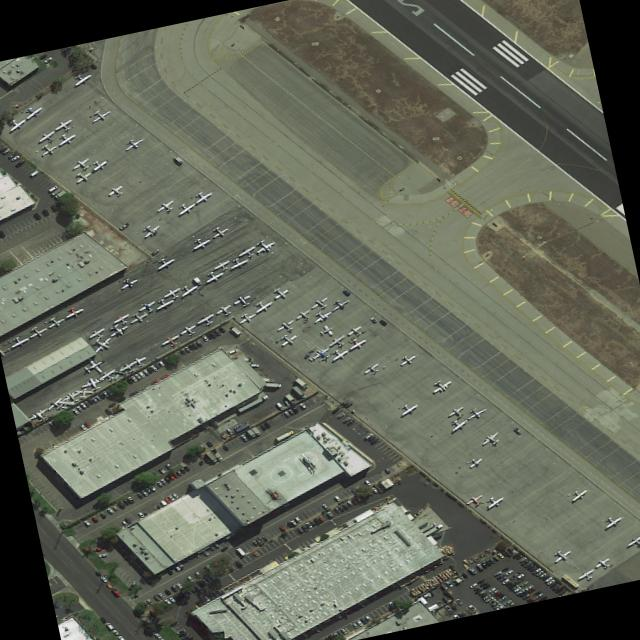large-vehicle: (236, 393, 270, 413), (420, 523, 443, 538), (416, 521, 437, 534), (273, 430, 295, 442), (292, 384, 307, 398), (209, 447, 223, 461), (294, 377, 309, 389), (228, 325, 244, 336), (205, 450, 218, 463), (283, 393, 297, 405), (53, 189, 67, 199), (234, 546, 247, 556), (172, 154, 184, 163), (261, 382, 282, 387), (253, 377, 274, 382), (50, 187, 63, 195), (251, 425, 261, 435), (227, 347, 240, 354), (246, 428, 256, 437), (275, 401, 285, 410), (29, 169, 40, 177), (192, 276, 203, 284), (48, 184, 58, 192), (364, 432, 374, 440), (106, 622, 115, 630), (246, 363, 260, 367)
plane: (79, 354, 109, 377), (87, 331, 116, 354), (79, 373, 107, 393), (104, 320, 131, 339), (252, 236, 278, 255), (27, 406, 53, 424), (428, 376, 454, 394), (88, 105, 113, 123), (54, 129, 79, 147), (479, 430, 504, 448), (273, 316, 298, 334), (70, 155, 94, 173), (174, 198, 198, 216), (309, 344, 333, 362), (25, 323, 50, 340), (121, 134, 146, 151), (140, 221, 163, 239), (328, 295, 351, 313), (176, 281, 200, 298), (60, 388, 84, 405), (96, 366, 120, 383), (161, 285, 185, 302), (21, 103, 45, 120), (154, 198, 178, 215), (153, 254, 177, 271), (464, 404, 488, 421), (446, 415, 470, 432), (482, 493, 506, 510), (550, 546, 574, 563), (116, 274, 141, 290), (5, 115, 28, 132), (70, 69, 93, 86), (189, 234, 212, 251), (252, 297, 275, 314), (309, 294, 332, 311), (326, 332, 349, 349), (345, 334, 368, 351), (152, 294, 176, 310), (127, 309, 151, 325), (62, 304, 86, 320), (7, 333, 31, 349), (195, 311, 219, 327), (45, 396, 67, 413), (311, 307, 333, 324), (328, 345, 350, 362), (137, 298, 160, 314), (117, 359, 140, 375), (202, 268, 225, 284), (53, 117, 76, 133), (37, 141, 60, 157), (191, 188, 214, 204), (160, 332, 183, 348), (601, 513, 624, 529), (227, 254, 250, 270), (231, 292, 254, 308), (235, 309, 258, 325), (44, 313, 66, 329), (89, 156, 111, 172), (72, 168, 94, 184), (397, 400, 419, 416), (464, 492, 486, 508), (568, 486, 590, 502), (237, 244, 259, 260), (270, 284, 292, 300), (277, 331, 299, 347), (87, 326, 110, 341), (37, 129, 60, 144), (209, 223, 230, 239), (576, 567, 598, 582), (178, 322, 200, 337), (361, 361, 383, 376), (215, 302, 235, 318), (212, 258, 233, 273), (112, 311, 133, 326), (106, 183, 127, 198), (447, 405, 468, 420), (593, 555, 614, 570), (397, 351, 418, 366), (294, 307, 314, 322), (345, 324, 366, 338), (111, 365, 130, 380), (318, 322, 336, 337), (129, 354, 148, 368), (466, 455, 484, 469), (626, 533, 640, 549), (56, 399, 77, 409), (74, 387, 95, 397)
small-vehicle: (118, 221, 130, 230), (239, 432, 249, 442), (443, 579, 454, 588), (342, 288, 352, 297), (554, 586, 565, 594), (150, 248, 161, 256), (513, 573, 525, 580), (70, 408, 82, 415), (296, 525, 305, 534), (201, 546, 210, 555), (356, 599, 365, 608), (444, 604, 453, 613), (50, 203, 59, 212), (41, 208, 50, 217), (181, 632, 191, 640), (172, 563, 182, 571), (453, 597, 463, 605), (466, 603, 476, 611), (111, 588, 121, 596), (129, 579, 137, 589), (38, 52, 48, 60), (551, 583, 561, 591), (367, 434, 377, 442), (117, 501, 127, 509), (378, 318, 388, 326), (512, 552, 523, 559), (342, 416, 353, 423), (207, 591, 216, 599), (176, 560, 185, 568), (220, 545, 229, 553), (333, 505, 341, 514), (364, 613, 373, 621), (460, 571, 469, 579), (468, 566, 477, 574), (519, 555, 528, 563), (501, 577, 510, 585), (33, 212, 42, 220), (164, 462, 173, 470), (124, 516, 133, 524), (82, 518, 91, 526), (106, 506, 115, 514), (126, 495, 134, 504), (140, 488, 149, 496), (148, 483, 157, 491), (105, 387, 114, 395), (82, 399, 91, 407), (79, 401, 88, 409), (78, 422, 87, 430), (214, 327, 222, 336), (369, 315, 378, 323), (203, 564, 213, 571), (324, 510, 334, 517), (331, 632, 341, 639), (388, 601, 398, 608), (523, 561, 533, 568), (527, 563, 537, 570), (529, 565, 539, 572), (532, 567, 542, 574), (535, 569, 545, 576), (43, 56, 53, 63), (16, 159, 26, 166), (7, 152, 17, 159), (478, 589, 488, 596), (490, 588, 500, 595), (503, 599, 513, 606), (513, 427, 523, 434), (117, 395, 127, 402), (129, 389, 139, 396), (501, 565, 511, 572), (520, 580, 530, 587), (532, 590, 542, 597), (505, 579, 515, 586), (469, 581, 479, 588), (346, 418, 356, 425), (336, 412, 346, 419), (169, 491, 179, 498), (133, 373, 143, 380), (150, 378, 160, 385), (175, 628, 186, 634), (541, 574, 552, 580), (10, 155, 21, 161), (478, 580, 489, 586), (514, 577, 525, 583), (524, 584, 535, 590), (312, 625, 320, 633), (370, 486, 378, 494), (351, 621, 359, 629), (356, 618, 364, 626), (360, 615, 368, 623), (335, 611, 343, 619), (95, 568, 103, 576), (476, 562, 484, 570), (283, 410, 291, 418), (299, 401, 307, 409), (171, 470, 179, 478), (136, 491, 144, 499), (164, 475, 172, 483), (129, 374, 137, 382), (101, 389, 109, 397), (97, 391, 105, 399), (86, 397, 94, 405), (218, 325, 226, 333), (210, 330, 218, 338), (191, 341, 199, 349), (183, 344, 191, 352), (181, 589, 190, 596), (170, 620, 179, 627), (304, 521, 313, 528), (301, 522, 308, 531), (308, 518, 317, 525), (363, 478, 372, 485), (333, 494, 342, 501), (336, 629, 345, 636), (450, 578, 459, 585), (99, 575, 108, 582), (492, 554, 501, 561), (515, 554, 524, 561), (520, 559, 529, 566), (544, 576, 553, 583), (2, 148, 11, 155), (482, 583, 491, 590), (488, 597, 497, 604), (498, 595, 507, 602), (196, 580, 205, 587), (520, 590, 529, 597), (523, 592, 532, 599), (157, 467, 166, 474), (120, 519, 129, 526), (136, 511, 145, 518), (166, 493, 175, 500), (144, 487, 153, 494), (75, 405, 84, 412), (104, 408, 113, 415), (137, 370, 146, 377), (156, 359, 165, 366), (549, 582, 559, 588), (493, 602, 503, 608), (527, 587, 537, 593), (535, 592, 545, 598), (516, 588, 526, 594), (525, 595, 535, 601), (476, 578, 486, 584), (370, 438, 380, 444), (189, 585, 197, 592), (194, 582, 201, 590), (205, 575, 213, 582), (142, 600, 150, 607), (171, 584, 179, 591), (186, 575, 194, 582), (251, 539, 259, 546), (227, 564, 235, 571), (203, 594, 211, 601), (212, 589, 220, 596), (168, 595, 176, 602), (236, 560, 243, 568), (301, 631, 309, 638), (278, 524, 285, 532), (317, 514, 325, 521), (337, 503, 344, 511), (345, 499, 353, 506), (384, 466, 391, 474), (340, 627, 348, 634), (106, 582, 114, 589), (320, 502, 328, 509), (294, 516, 302, 523), (290, 518, 298, 525), (480, 561, 488, 568), (488, 557, 496, 564), (286, 521, 294, 528), (511, 584, 519, 591), (175, 468, 182, 476), (183, 465, 191, 472), (179, 466, 186, 474), (91, 514, 98, 522), (156, 480, 164, 487), (160, 477, 167, 485), (126, 376, 134, 383), (94, 394, 102, 401), (90, 395, 98, 402), (259, 423, 267, 430), (146, 366, 154, 373), (142, 368, 150, 375), (150, 364, 158, 371), (201, 334, 209, 341), (195, 340, 203, 347), (179, 347, 187, 354), (153, 362, 161, 369), (433, 534, 442, 540), (153, 632, 162, 638), (538, 572, 547, 578), (547, 579, 556, 585), (475, 588, 484, 594), (482, 594, 491, 600), (485, 596, 494, 602), (491, 600, 500, 606), (472, 585, 481, 591), (505, 569, 514, 575), (511, 572, 520, 578), (100, 510, 106, 519), (111, 505, 120, 511), (161, 372, 170, 378), (47, 421, 56, 427), (93, 546, 103, 551), (98, 552, 108, 557), (487, 587, 497, 592), (202, 577, 209, 584), (158, 591, 165, 598), (209, 543, 216, 550), (213, 540, 220, 547), (351, 497, 358, 504), (354, 494, 361, 501), (317, 623, 324, 630), (485, 559, 492, 566), (0, 146, 7, 153), (177, 592, 184, 599), (288, 408, 295, 415), (292, 406, 299, 413), (168, 473, 175, 480), (122, 498, 129, 505), (206, 440, 213, 447), (85, 421, 92, 428), (264, 421, 271, 428), (206, 332, 213, 339), (187, 343, 194, 350), (146, 598, 154, 604), (194, 571, 202, 577), (251, 551, 259, 557), (199, 597, 207, 603), (164, 598, 172, 604), (313, 517, 321, 523), (112, 629, 120, 635), (497, 552, 505, 558), (89, 63, 97, 69), (0, 230, 6, 238), (494, 591, 502, 597), (366, 489, 374, 495), (514, 586, 522, 592), (163, 497, 171, 503), (153, 594, 160, 600), (164, 588, 171, 594), (176, 582, 183, 588), (186, 587, 193, 593), (196, 600, 203, 606), (100, 617, 106, 624), (494, 570, 501, 576), (497, 574, 504, 580), (185, 636, 195, 640), (108, 402, 116, 407), (342, 502, 348, 508), (173, 595, 179, 601), (261, 536, 268, 541), (323, 636, 331, 640), (118, 635, 124, 640), (159, 638, 165, 640)
